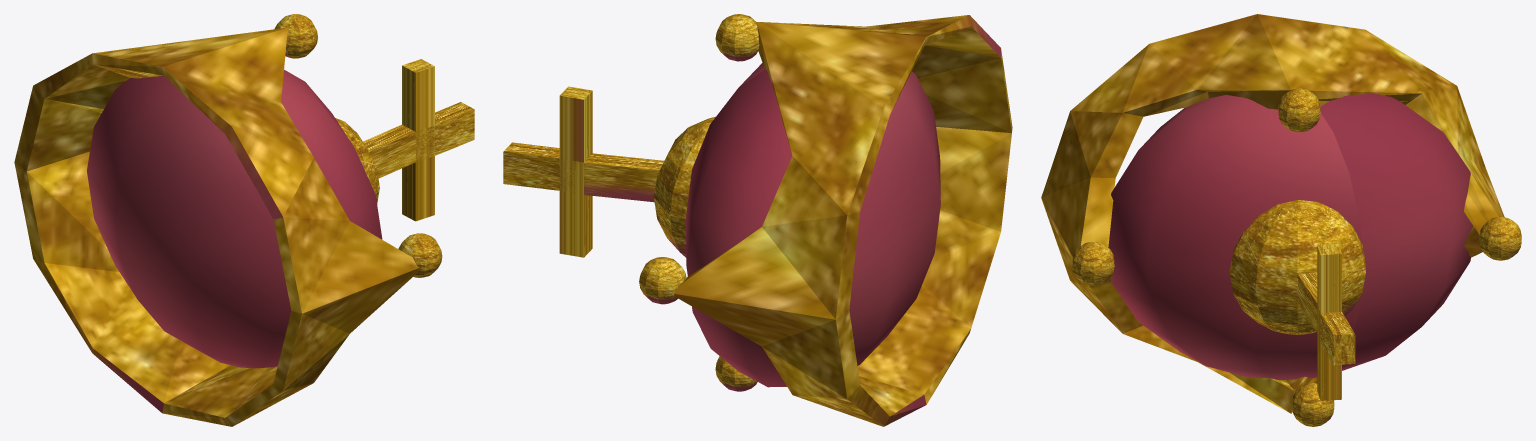
Rendered from Crown2 old.fbx.
The picture shows the model from 3 angles, left to right: view 1: azimuth 30°, elevation 25°; view 2: azimuth 150°, elevation 25°; view 3: azimuth 270°, elevation 25°; orthographic projection. The views are drawn at different scales.
Visible parts, largest first — view 1: Sphere.002; view 2: Sphere.002; view 3: Sphere.002.
Part boxes in pixels (x1,y1,x2,y2): Sphere.002: [14, 14, 474, 426]; Sphere.002: [503, 14, 1012, 426]; Sphere.002: [1041, 14, 1521, 426].
Bounding box in the file's own units: 0.1474 × 0.1279 × 0.1636.
